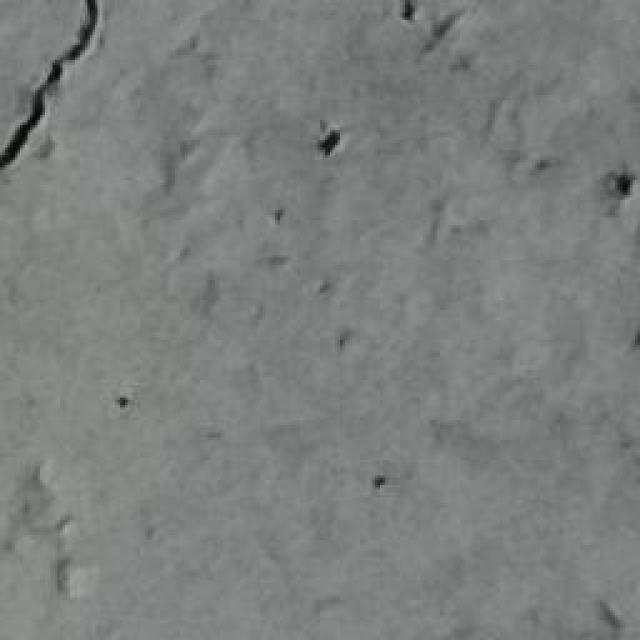Diagonal: (2, 0, 99, 179)
